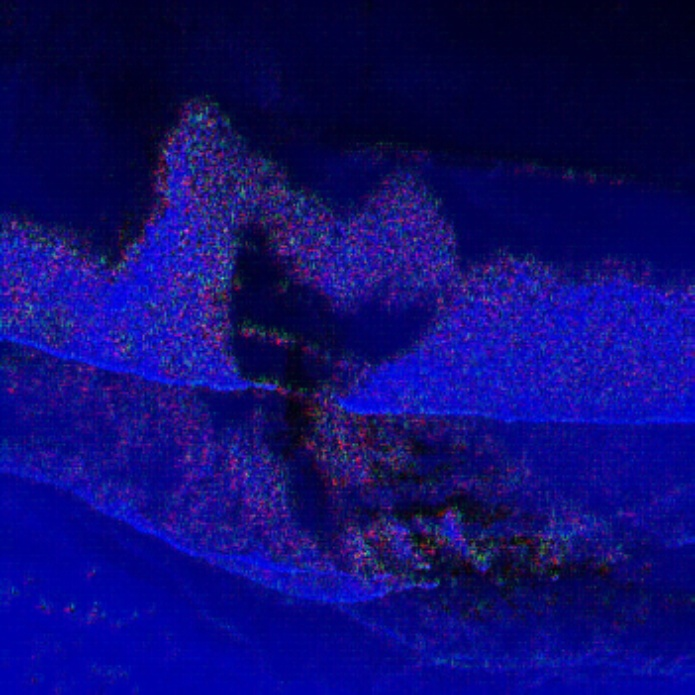rip_current: (155, 103, 474, 548)
